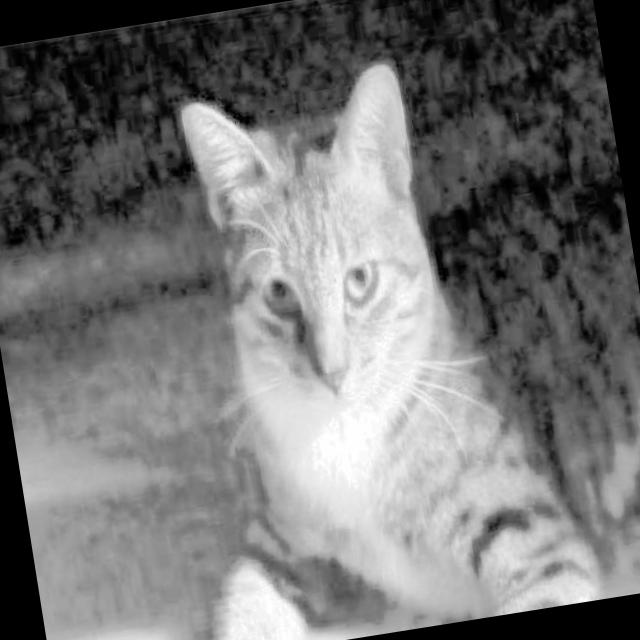Cat: (41, 13, 640, 640)
